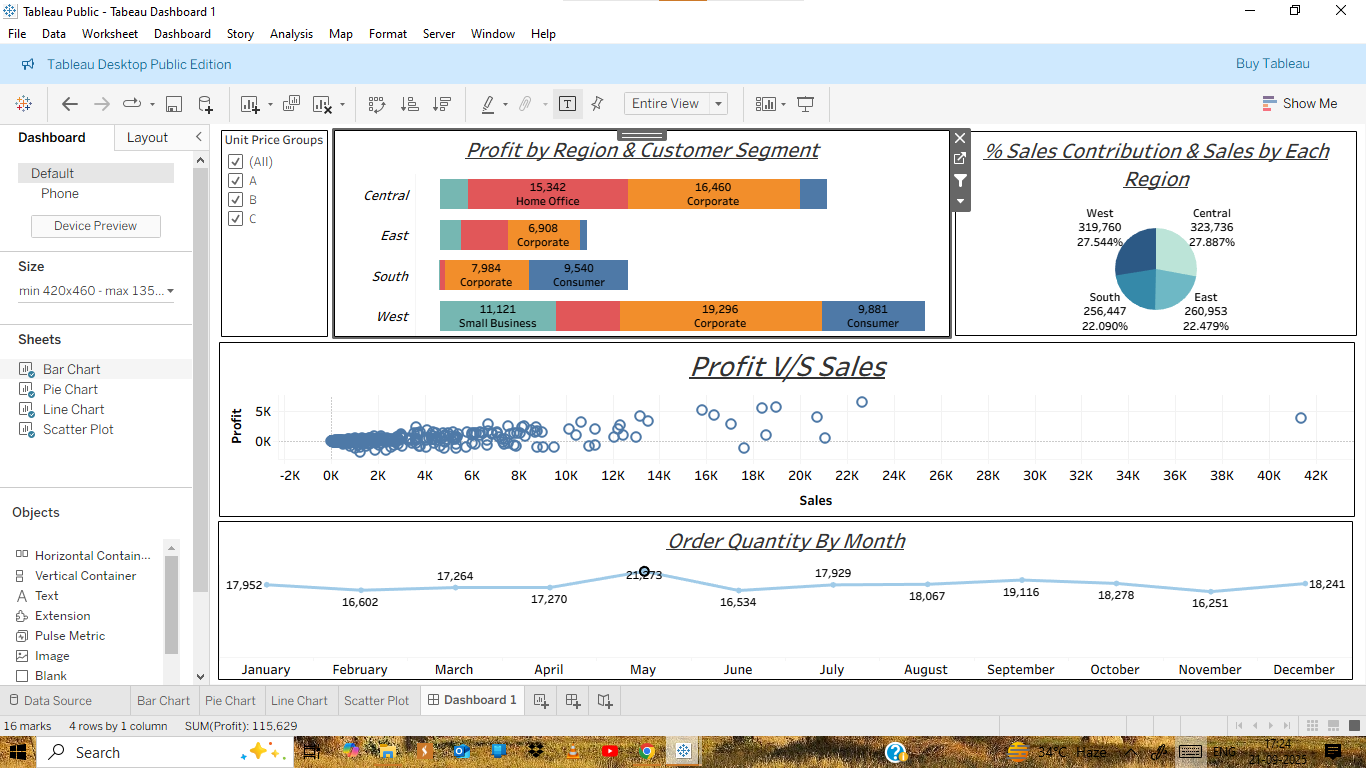

This screenshot's page, from the dashboard's own definition file:
{"tool":"tableau","page":{"name":"Dashboard 1","canvas":[1000,1000],"units":"permille","ordinal":0},"visuals":[{"type":"filter","title":"Line Chart","param":"[federated.0pza9ur15bctji1ckxiry1bfkyh6].[none:Calculation_1821706104999936000:n","box":[9.4,10.7,92.8,369.6]},{"type":"worksheet","title":"Bar Chart","mark":"Automatic","rows":["Region"],"cols":["Profit"],"box":[107.2,10.7,533.6,369.6]},{"type":"worksheet","title":"Pie Chart","mark":"Pie","box":[645.1,12.5,348.1,366.1]},{"type":"worksheet","title":"Scatter Plot","mark":"Automatic","rows":["Profit"],"cols":["Sales"],"box":[7.8,389.3,983.6,312.5]},{"type":"worksheet","title":"Line Chart","mark":"Automatic","rows":["Order Quantity"],"cols":["Order Date"],"box":[6.8,708.9,983,283.9]}]}

Visuals, with their boxes on the dashboard's canvas, which has no fixed pixel size, in thousandths of its width and height (x1, y1, x2, y2). These are canvas units, not pixel positions in the 1366x768 screenshot, which may show the page scaled, cropped or inside an application window:
"Line Chart" filter: box(9, 11, 102, 380)
"Bar Chart" worksheet: box(107, 11, 641, 380)
"Pie Chart" worksheet (Pie marks): box(645, 12, 993, 379)
"Scatter Plot" worksheet: box(8, 389, 991, 702)
"Line Chart" worksheet: box(7, 709, 990, 993)
